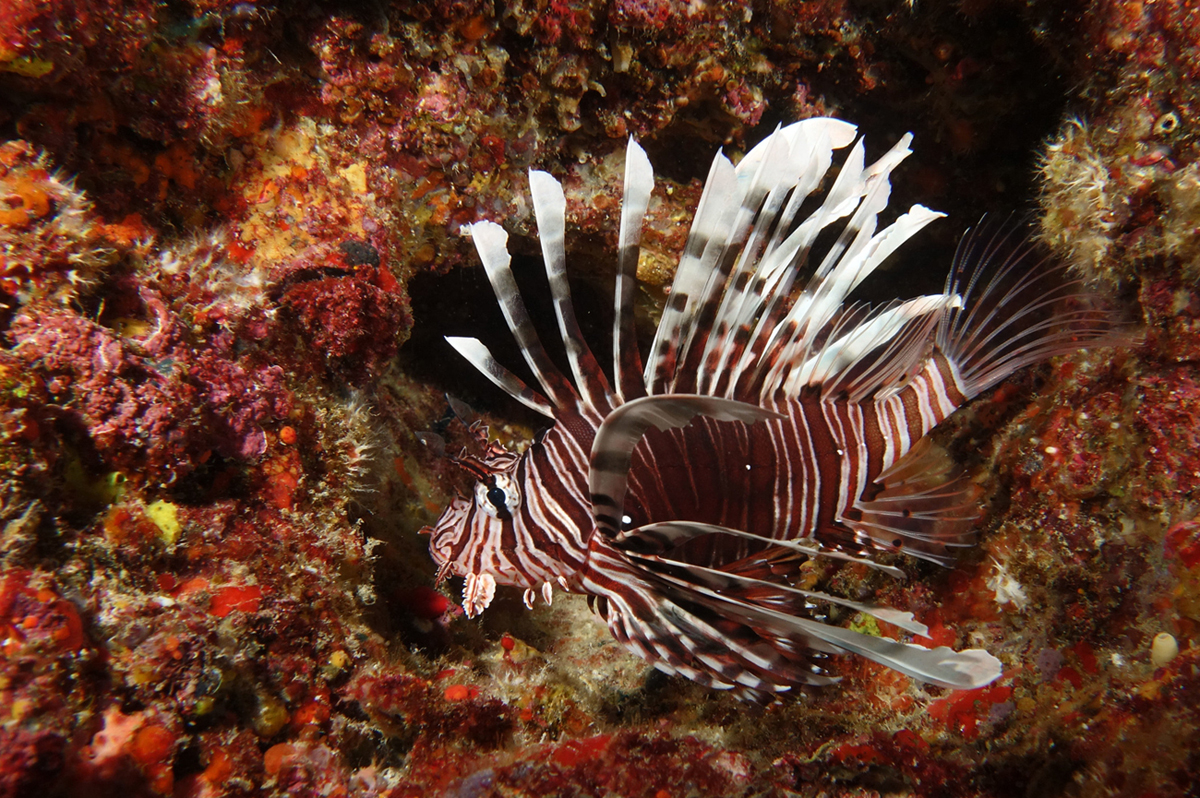Pterois_volitans: (383, 126, 1061, 717)
